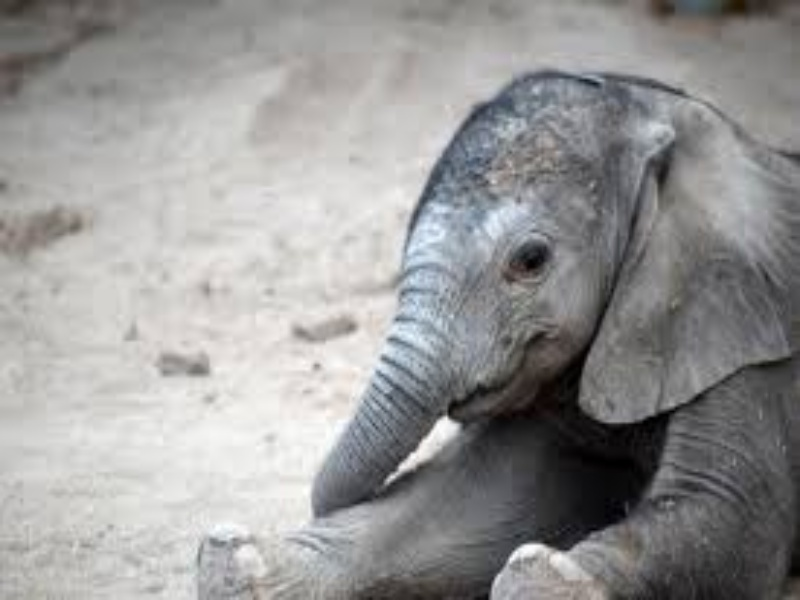elephant: (311, 68, 800, 596)
